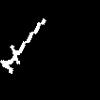double_crochet: (0, 19, 45, 73)
